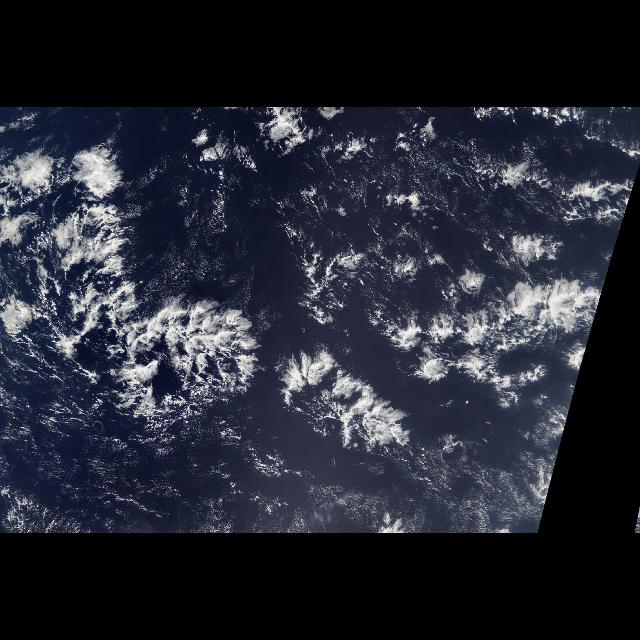Flower: (380, 230, 600, 390), (3, 132, 139, 284)
Sugar: (1, 375, 544, 533), (120, 112, 306, 298), (312, 122, 580, 222)
